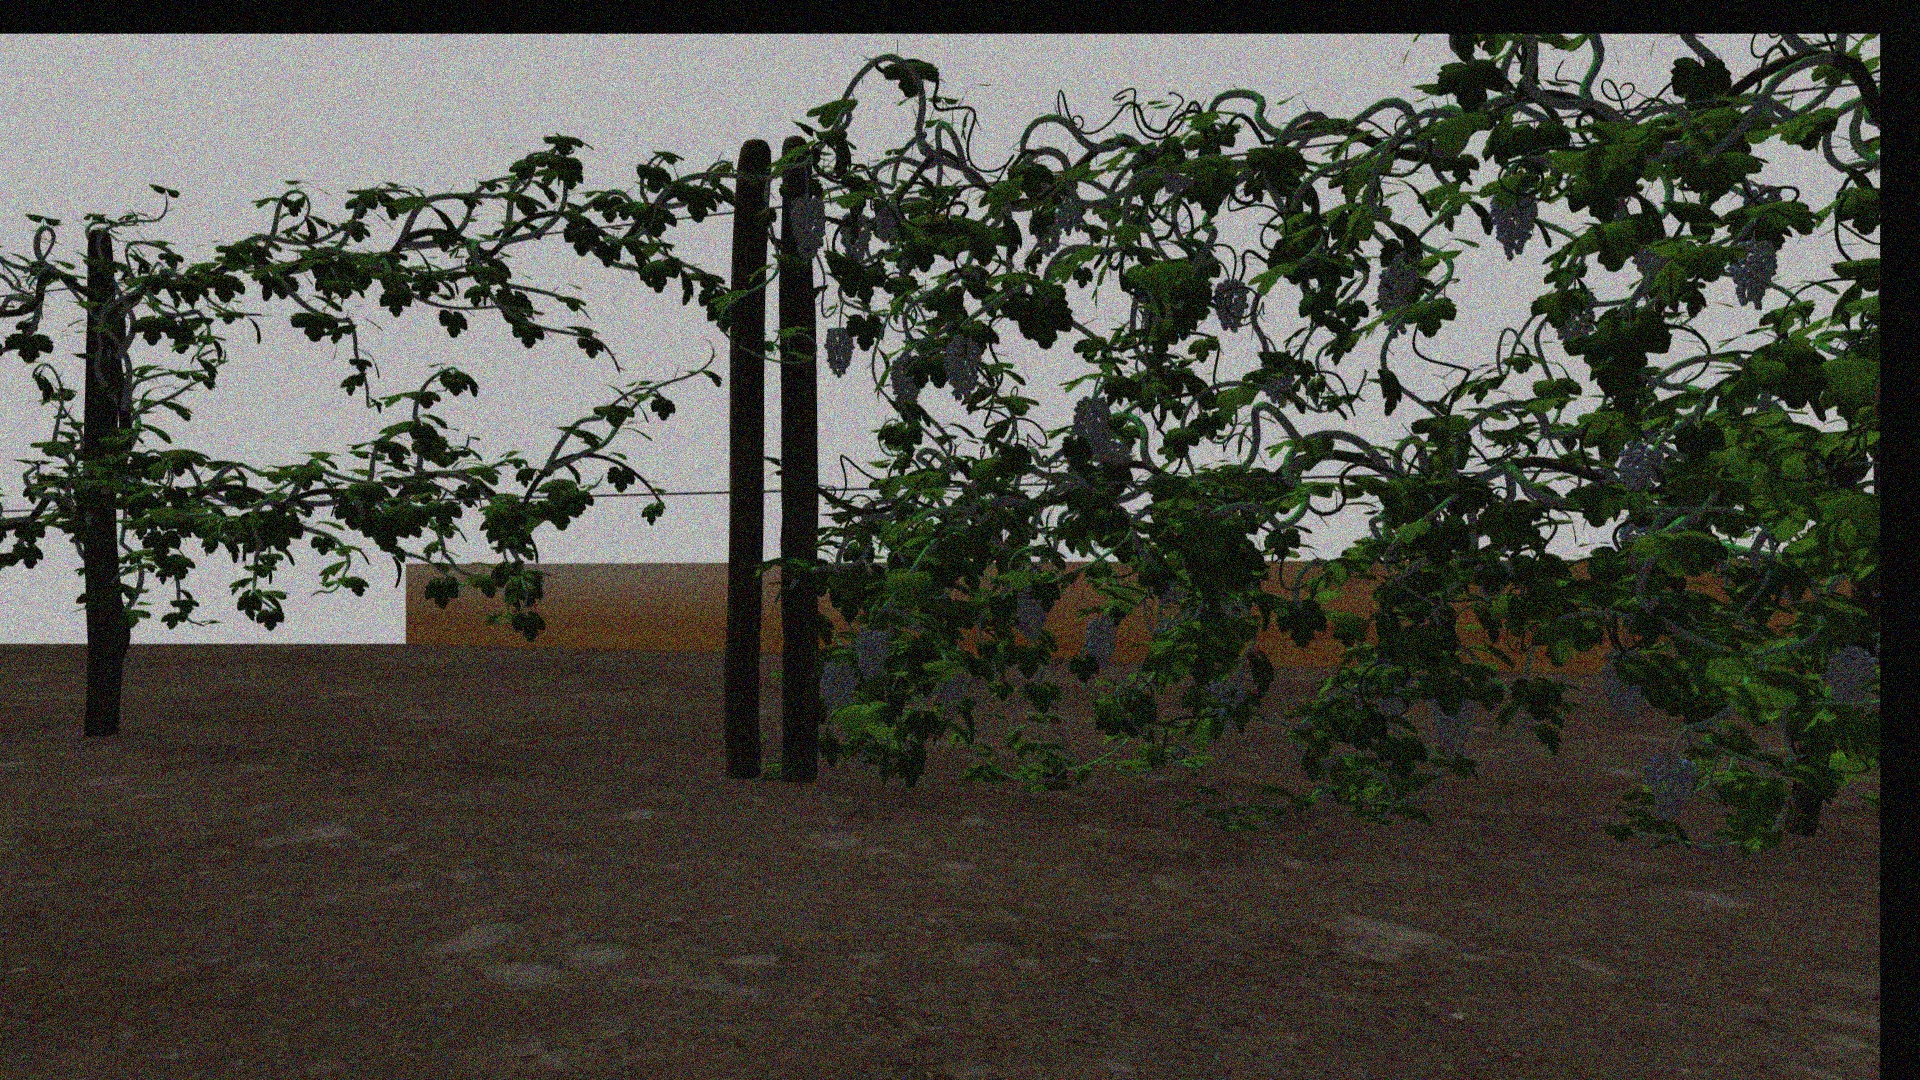grape: (1643, 749, 1697, 820), (1731, 237, 1779, 309), (1491, 191, 1538, 261), (1600, 649, 1644, 720), (1429, 696, 1474, 761), (1826, 647, 1874, 707), (789, 191, 825, 266), (943, 335, 981, 398), (1615, 440, 1665, 487), (1212, 278, 1251, 331), (1073, 397, 1112, 450), (855, 628, 891, 680), (1375, 282, 1410, 338), (818, 662, 855, 712), (1015, 585, 1048, 640), (1084, 616, 1117, 670), (839, 212, 872, 262), (889, 357, 923, 405), (824, 324, 855, 377), (936, 670, 969, 713), (1387, 255, 1420, 293), (1211, 676, 1249, 708), (876, 204, 905, 243), (1059, 195, 1083, 233)
